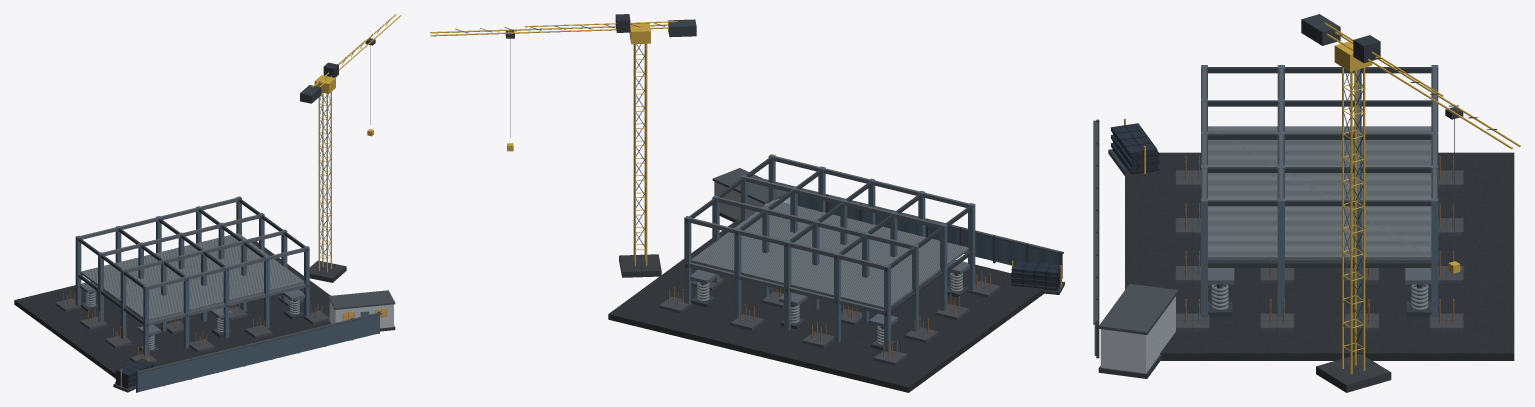
File: trg-9-construction.glb
3 views of the same model, side by side, from view 1: azimuth 30°, elevation 25°; view 2: azimuth 150°, elevation 25°; view 3: azimuth 270°, elevation 25° (orthographic). The views are drawn at different scales.
Bounding box in the file's own units: 46.02 × 22.65 × 25.24.
Materials: 22 (12 with a texture image).
